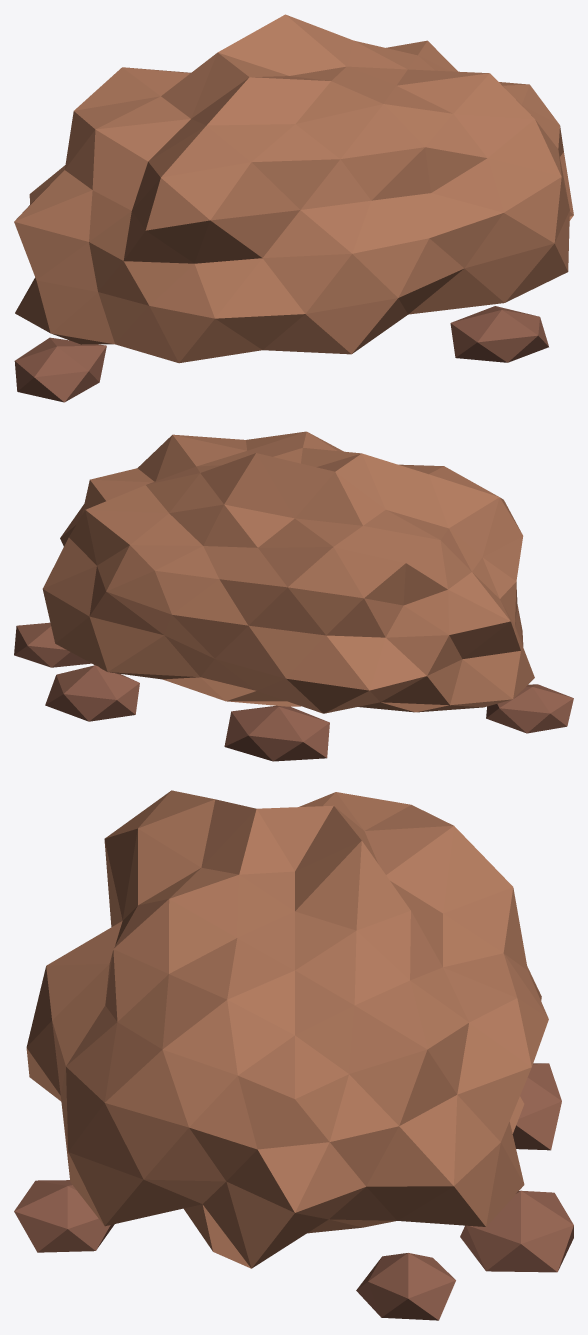
File: mars_rock1.glb
3 renders of one model, top to bottom at view 1: azimuth 30°, elevation 25°; view 2: azimuth 150°, elevation 25°; view 3: azimuth 270°, elevation 25°, orthographic. The views are drawn at different scales.
Parts seen in each view (by area): view 1: Rock; view 2: Rock; view 3: Rock.
Part boxes in pixels (x1,y1,x2,y2): Rock: [14, 14, 573, 402]; Rock: [14, 431, 573, 761]; Rock: [14, 790, 573, 1320].
Size of what is drawn, in the model's own units: 3.87 by 1.76 by 2.68.
